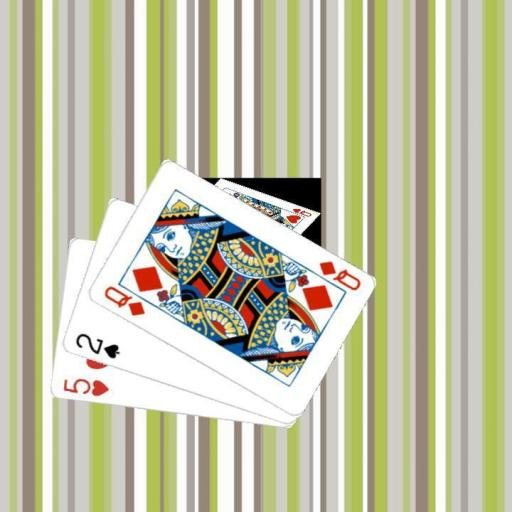card-corner: (100, 282, 146, 318), (315, 258, 362, 292), (72, 330, 121, 360), (60, 376, 110, 398)
